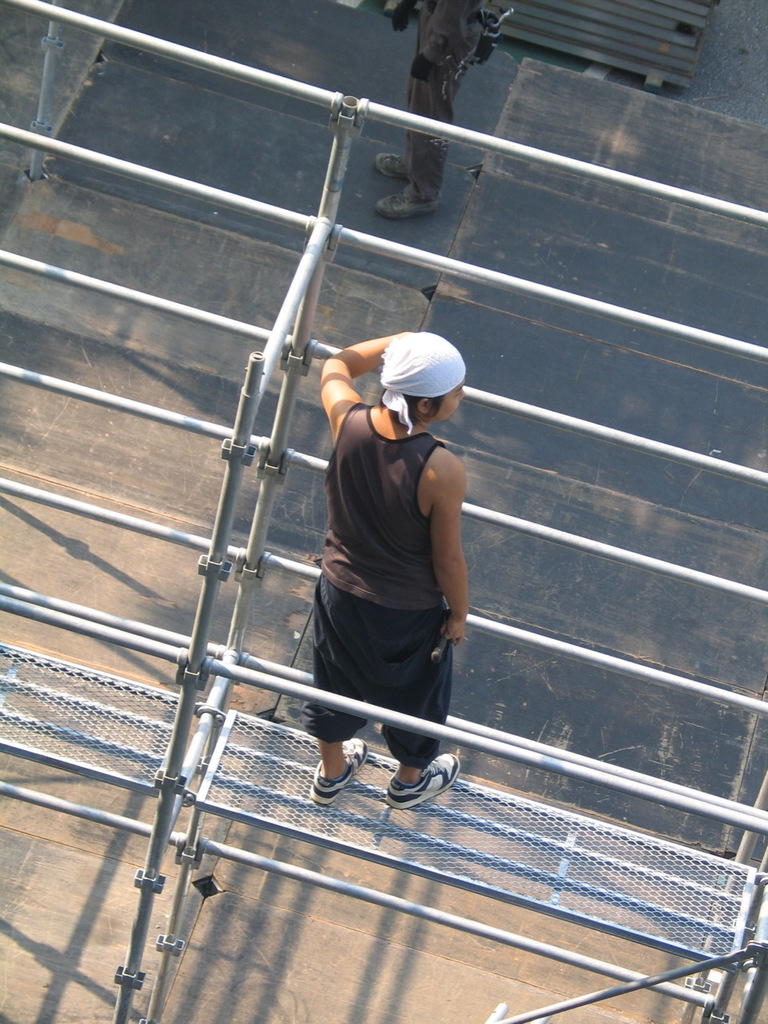Person: (374, 0, 513, 219)
